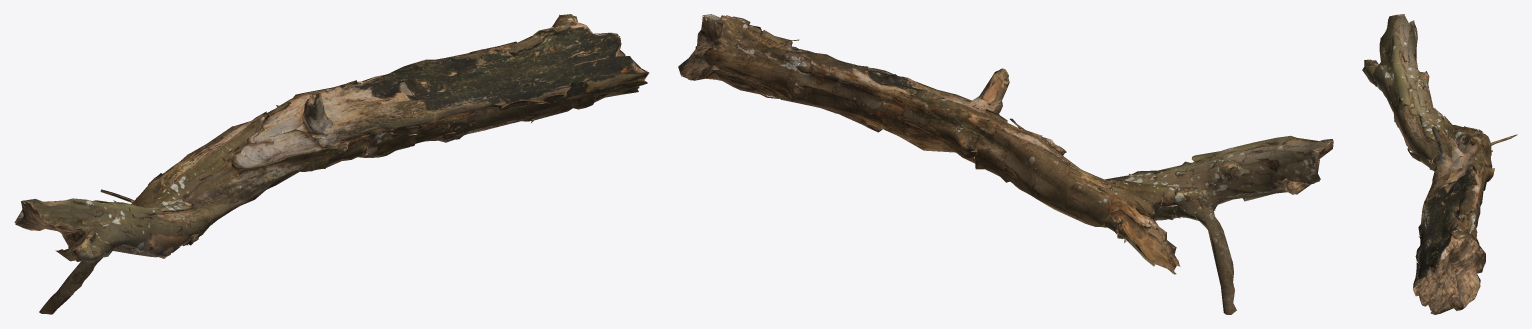
File: DeadTrunk.glb
3 views of the same model, side by side, from view 1: azimuth 30°, elevation 25°; view 2: azimuth 150°, elevation 25°; view 3: azimuth 270°, elevation 25° (orthographic). The views are drawn at different scales.
Visible parts, largest first — view 1: DeadTrunk; view 2: DeadTrunk; view 3: DeadTrunk.
Boxes of the visible parts, bbox=[...] form: DeadTrunk: bbox=[14, 14, 649, 314]; DeadTrunk: bbox=[678, 14, 1333, 314]; DeadTrunk: bbox=[1362, 14, 1517, 314].
Bounding box in the file's own units: 4.05 × 1.06 × 1.05.
Materials: 1 (1 with a texture image).
